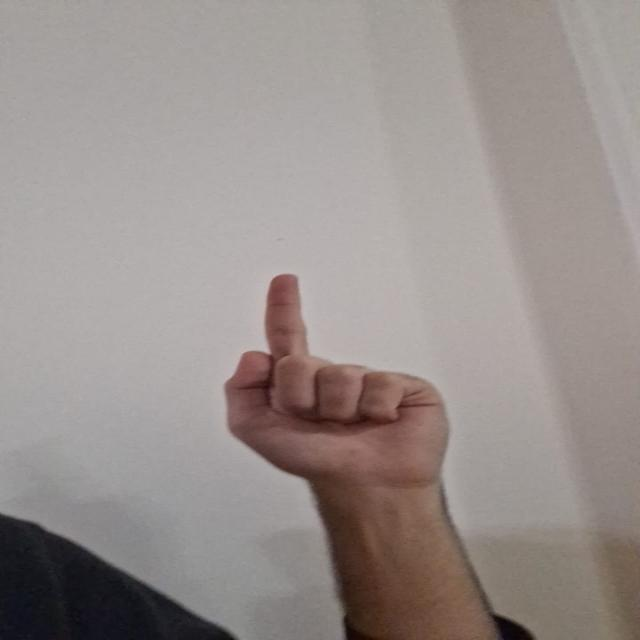G: (216, 270, 456, 487)
